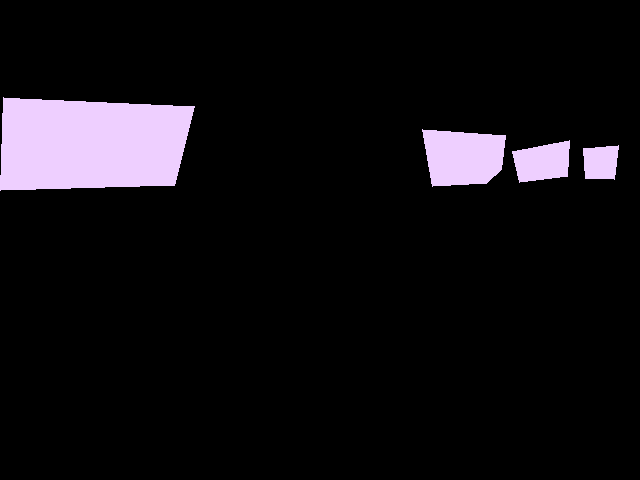Train: (0, 97, 618, 191)
